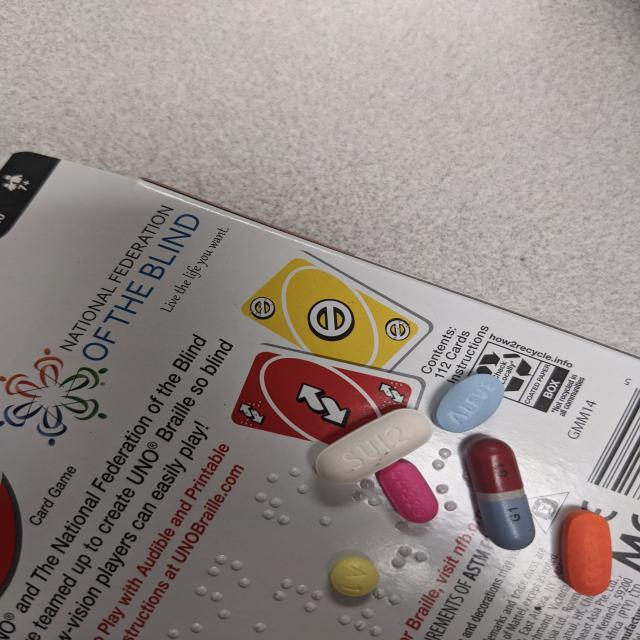non-organic waste: (314, 407, 434, 486), (464, 437, 537, 552), (559, 509, 614, 597), (430, 373, 506, 433), (376, 458, 440, 524), (329, 556, 380, 597)
